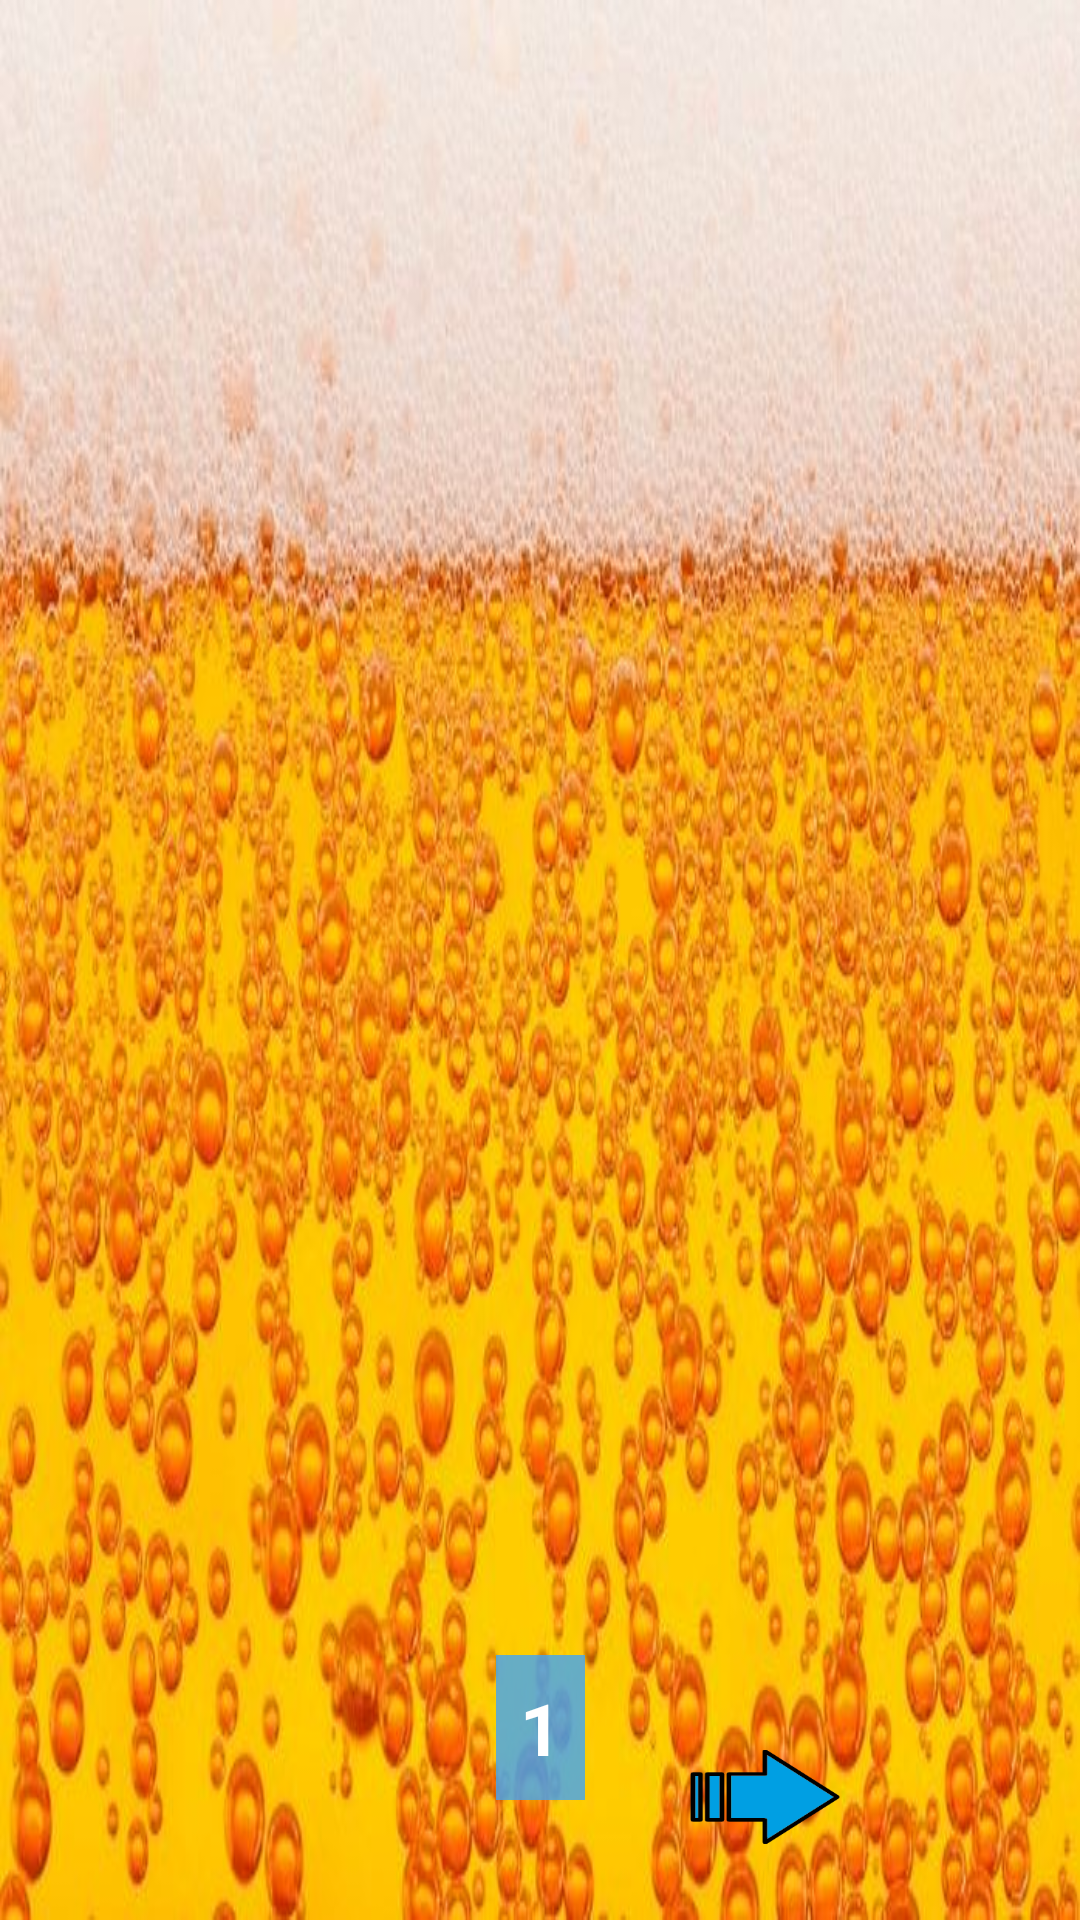

Point at icon controls on the screen. Image size 1080x1920, points as (x=x, y=y).
arrow right: (x=765, y=1797)
